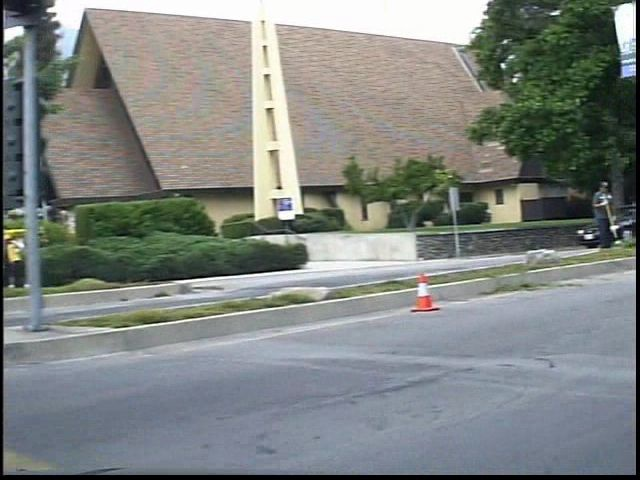person: (11, 226, 43, 290)
